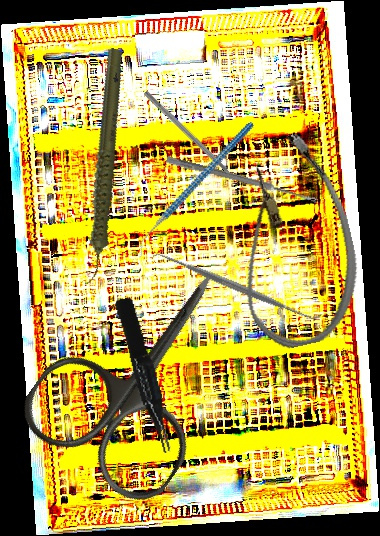Cannula: (213, 126, 373, 356)
Chopper: (107, 121, 284, 258)
Handpiece: (32, 46, 171, 287)
Hook Surgical: (142, 90, 248, 191)
Iris Scissors: (11, 230, 279, 514)
Spatula Surgical: (151, 242, 323, 331)
Surgical Spoon: (165, 155, 319, 205)
Tissue Forceps: (114, 295, 175, 457)
